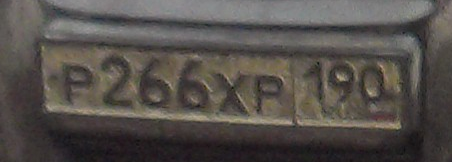character: (177, 53, 213, 114), (138, 54, 175, 109), (102, 55, 137, 110), (58, 60, 97, 109), (360, 55, 392, 112), (253, 68, 289, 115), (217, 68, 250, 114), (330, 56, 358, 108), (302, 56, 328, 103)
